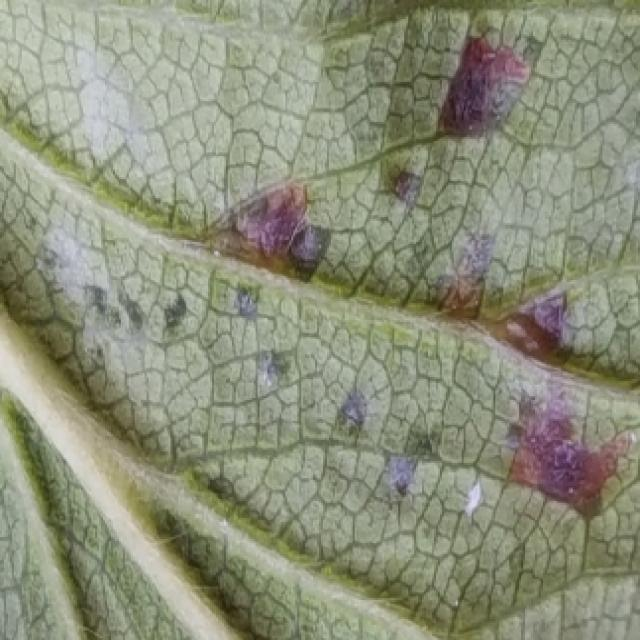Angular Leafspot: (24, 0, 640, 533)
